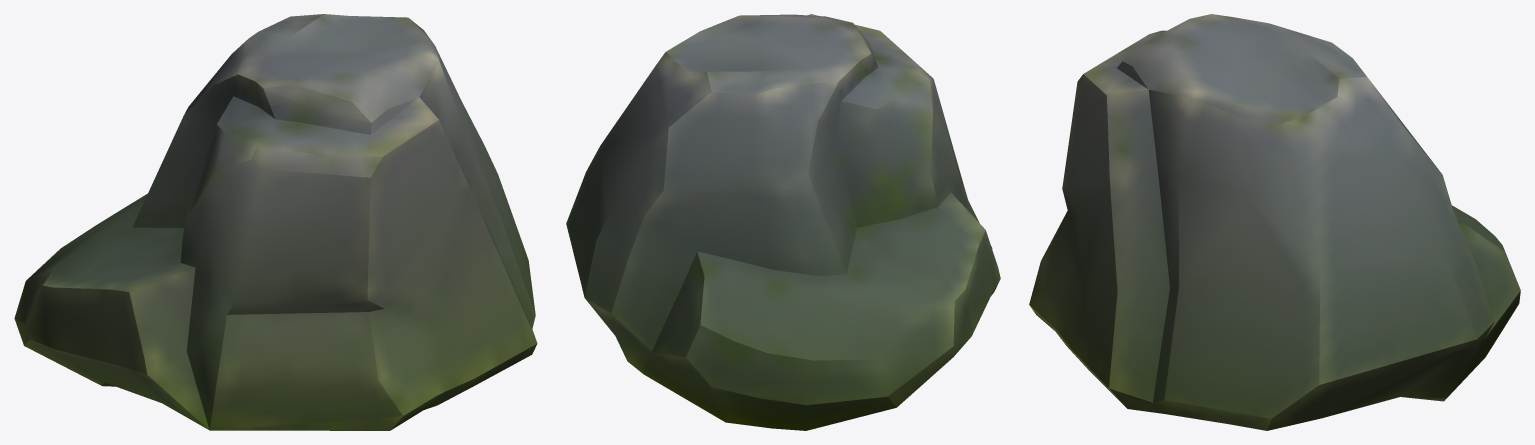
Rendered from rock1.glb.
3 renders of one model, left to right at view 1: azimuth 30°, elevation 25°; view 2: azimuth 150°, elevation 25°; view 3: azimuth 270°, elevation 25°, orthographic. The views are drawn at different scales.
Visible parts, largest first — view 1: Rock_Medium_1; view 2: Rock_Medium_1; view 3: Rock_Medium_1.
Boxes of the visible parts, <box> form: Rock_Medium_1: <box>14,14,537,430</box>; Rock_Medium_1: <box>566,14,1000,430</box>; Rock_Medium_1: <box>1029,14,1520,430</box>.
Bounding box in the file's own units: 3.23 × 2.26 × 2.99.
1 material, 1 textured.
